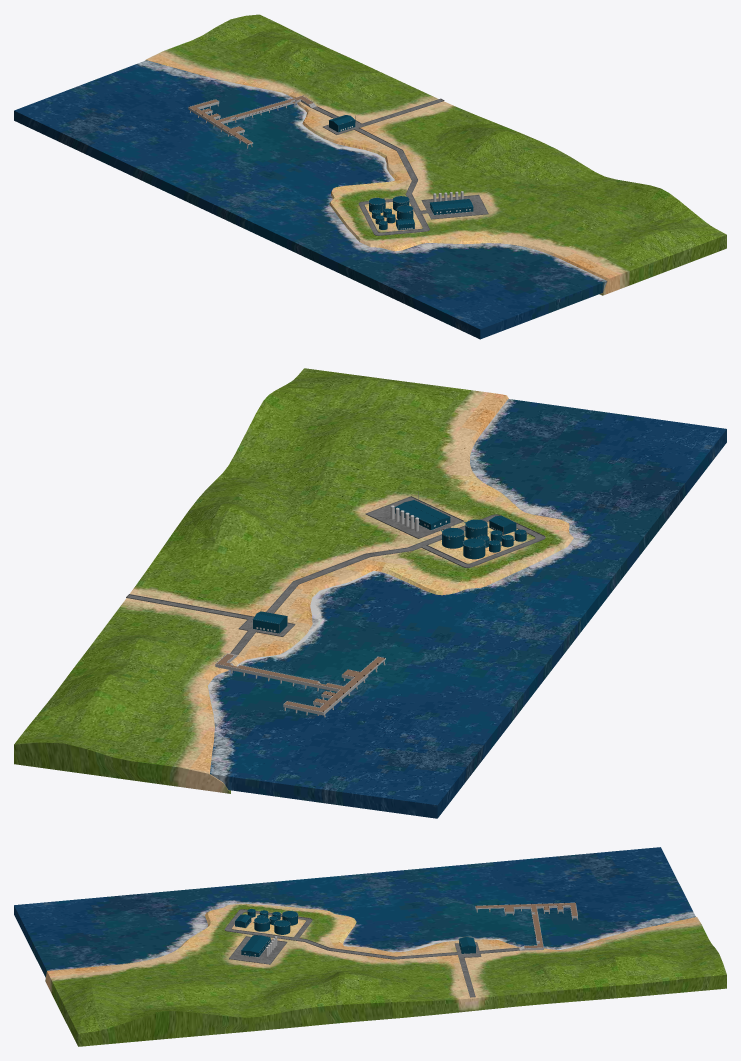
Rendered from Static.glb.
3 views of the same model, one above another, from view 1: azimuth 30°, elevation 25°; view 2: azimuth 150°, elevation 25°; view 3: azimuth 270°, elevation 25° (orthographic). The views are drawn at different scales.
Parts seen in each view (by area): view 1: Static; view 2: Static; view 3: Static.
Boxes of the visible parts, <box> form: Static: <box>14,14,726,339</box>; Static: <box>14,368,726,818</box>; Static: <box>14,847,726,1046</box>.
Bounding box in the file's own units: 77.16 × 6.31 × 124.
10 materials, 4 textured.
